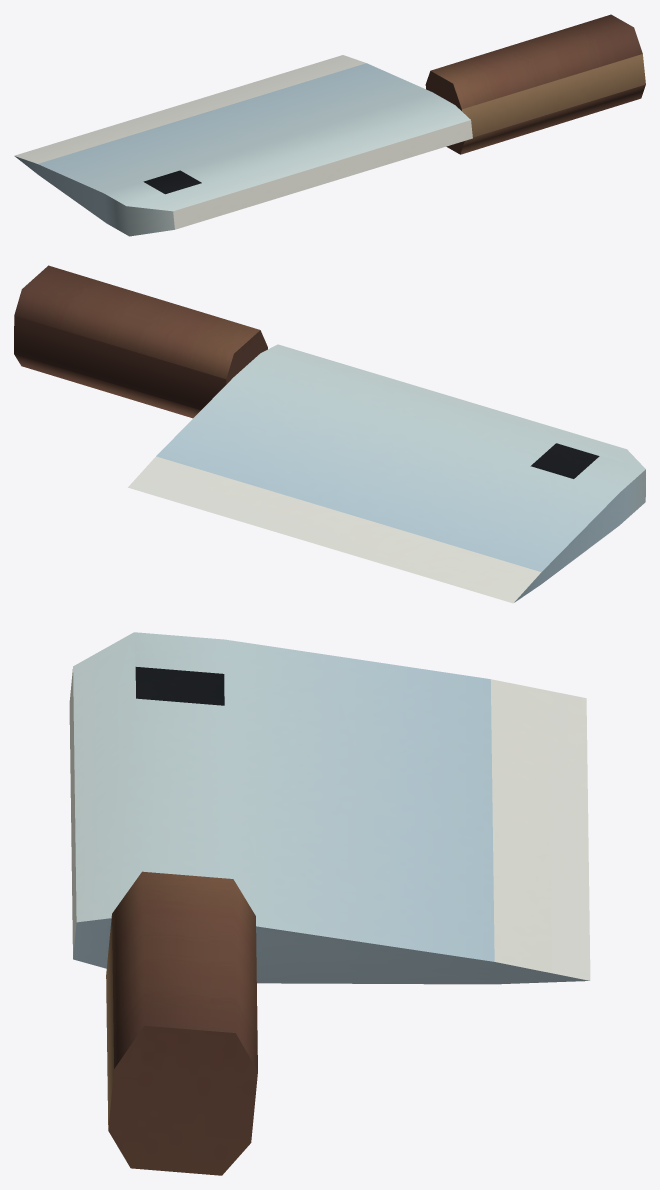
File: cleaver_lying_flat.fbx
3 views of the same model, one above another, from view 1: azimuth 30°, elevation 25°; view 2: azimuth 150°, elevation 25°; view 3: azimuth 270°, elevation 25° (orthographic). The views are drawn at different scales.
Visible parts, largest first — view 1: cleaver_lying_flat; view 2: cleaver_lying_flat; view 3: cleaver_lying_flat.
Boxes of the visible parts, x1,y1,x2,y2 form: cleaver_lying_flat: (14, 14, 645, 236); cleaver_lying_flat: (14, 265, 645, 603); cleaver_lying_flat: (69, 632, 590, 1175).
Size of the model in its own units: 55.17 by 8.87 by 24.21.
